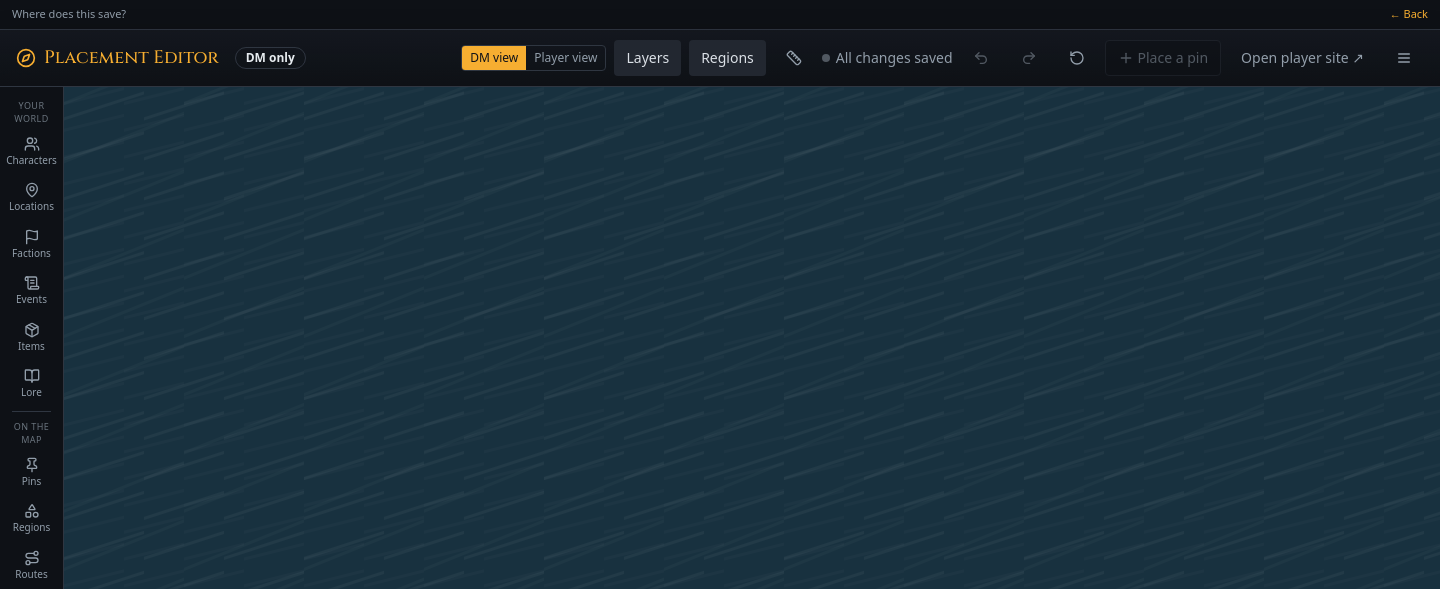
Test: AtlasPlacementEditor player lens › lists DM-only entities in DM view
Expected: the text "All changes saved" is shown, [836,48,952,68]
Click the button "Locations". click: (32, 197)
box: [0,174,63,220]
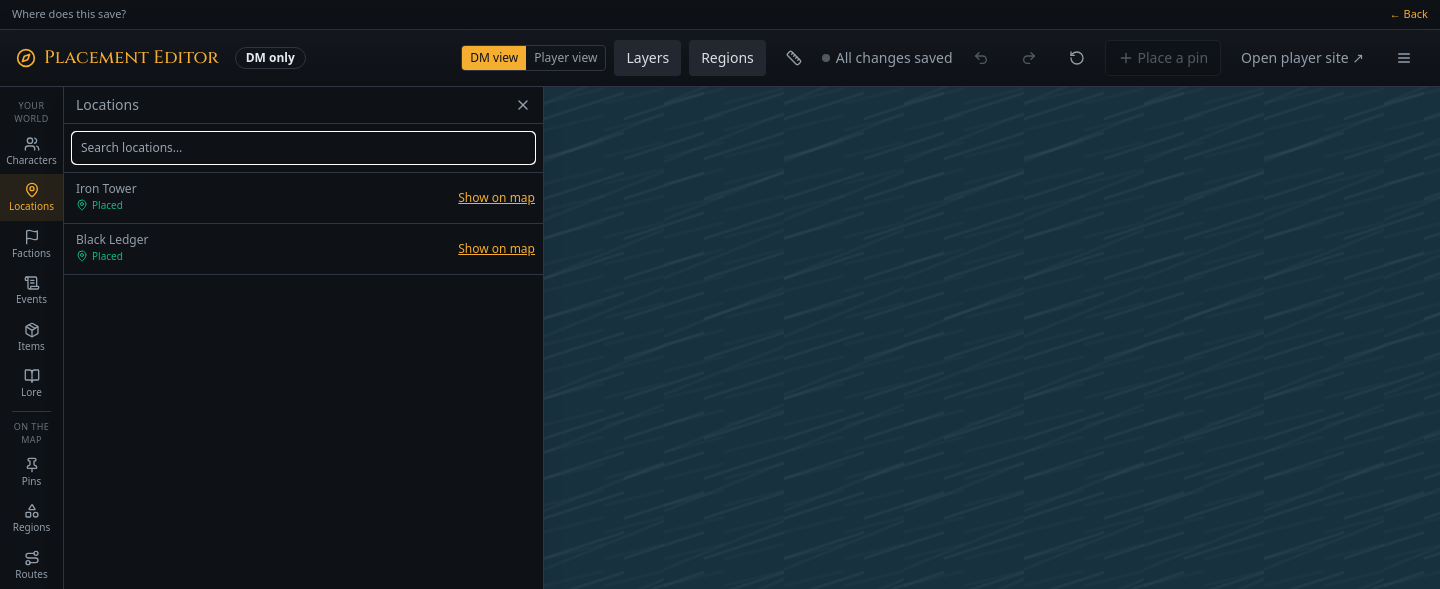
Expected: the text "Iron Tower" is shown, [76,180,137,196]
Expected: the text "Black Ledger" is shown, [76,230,148,248]
